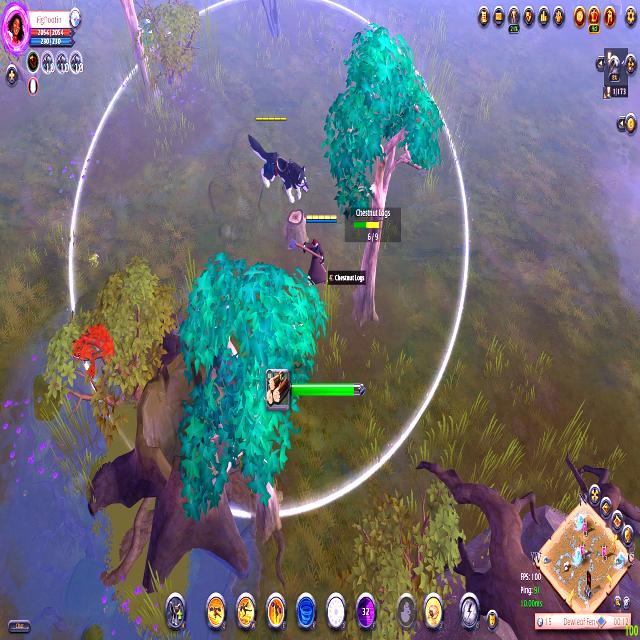hide: (134, 12, 163, 52)
ore: (66, 298, 122, 382)
red: (295, 208, 341, 290)
wisp caged: (165, 248, 329, 546), (306, 9, 446, 339)
